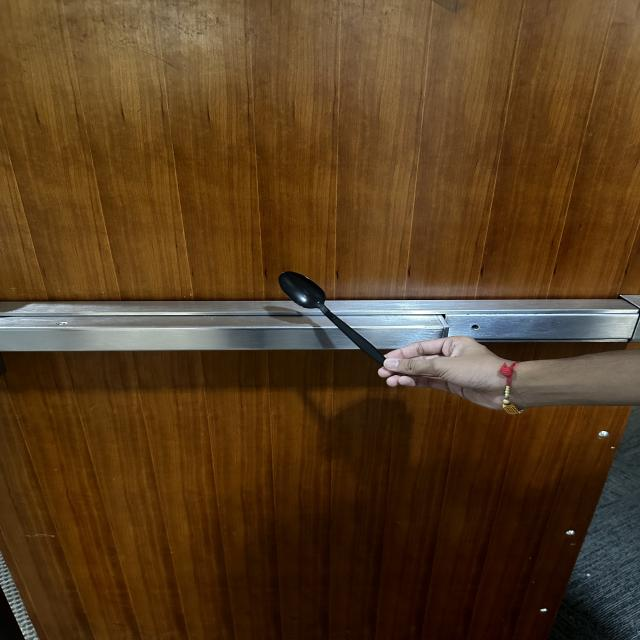spoon: (262, 251, 394, 387)
